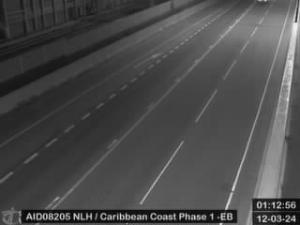vehicle: (258, 0, 270, 4)
